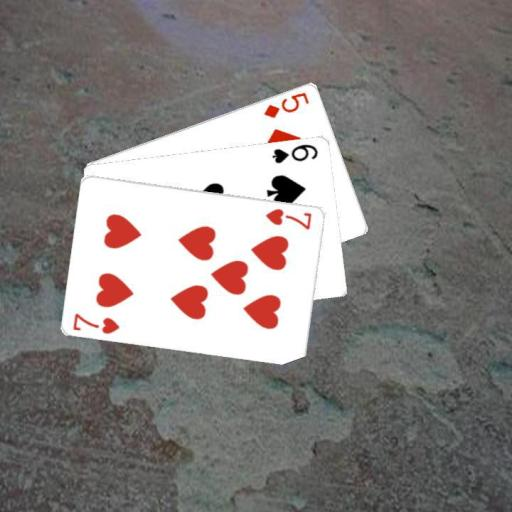5D: (261, 88, 311, 120)
6S: (269, 140, 319, 164)
7H: (70, 309, 122, 336), (263, 205, 314, 231)
